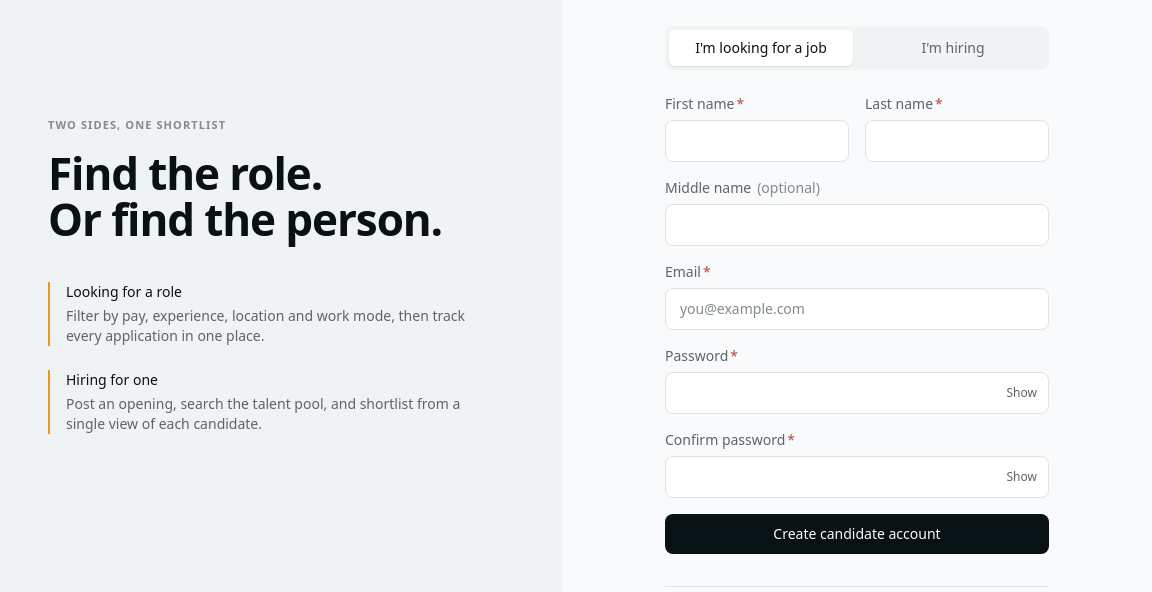
Scenario: sign-up screen › switches to the employer form
Click the tab "I'm hiring": (953, 48) [861, 30, 1045, 66]
(page scrolled)
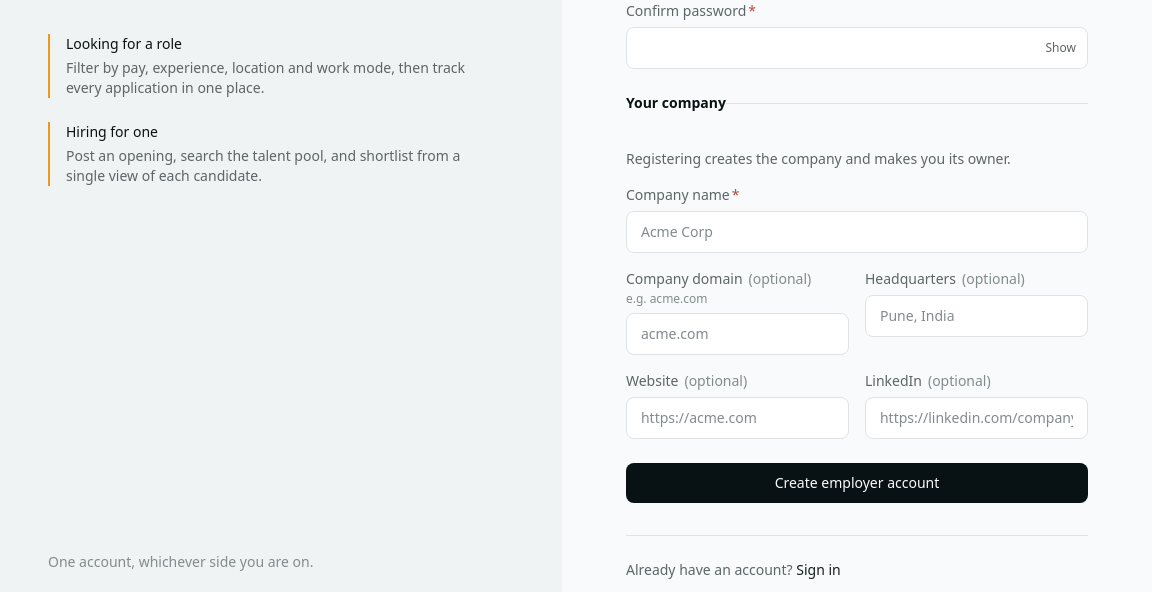
Result: the button "Create employer account" is shown at [626, 463, 1088, 503]
Result: the field labelled "Company name*" is shown at [626, 211, 1088, 253]
